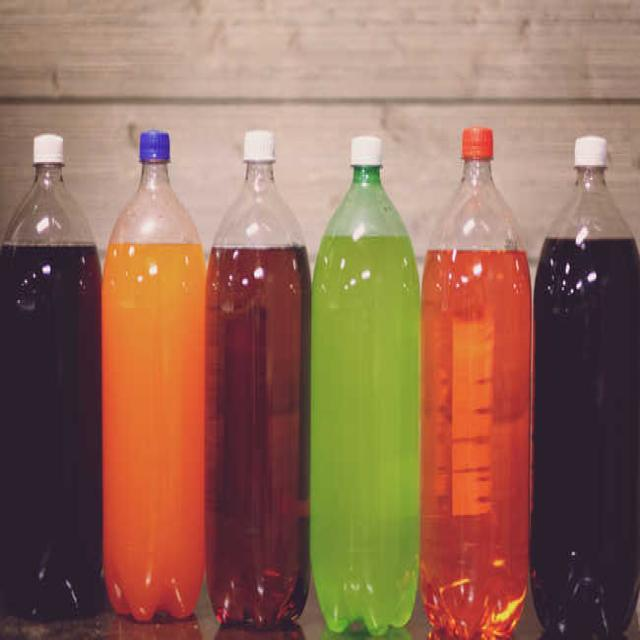bottle: (420, 126, 531, 638), (531, 136, 640, 638), (311, 136, 420, 635), (206, 130, 310, 628), (102, 130, 206, 621), (0, 134, 102, 618)
